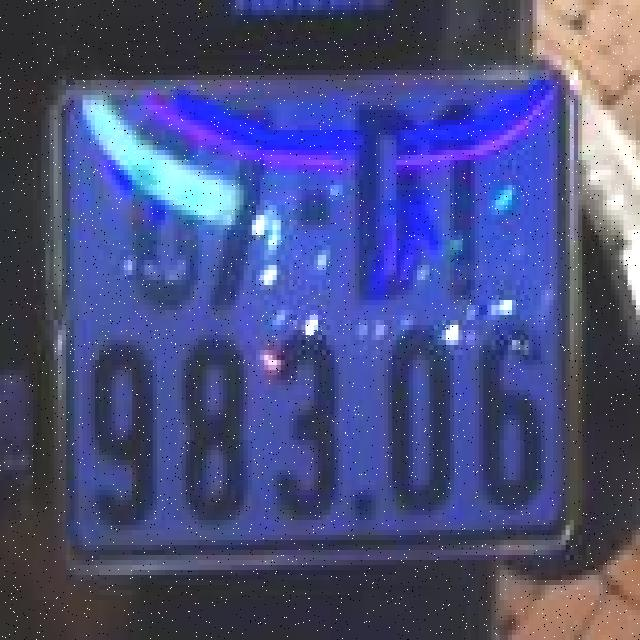0: (376, 322, 466, 542)
1: (434, 95, 499, 305)
3: (264, 320, 347, 530)
6: (122, 110, 208, 320), (473, 308, 551, 528)
7: (202, 100, 272, 320)
8: (167, 325, 254, 530)
9: (85, 320, 167, 535)
D: (343, 98, 425, 302)
